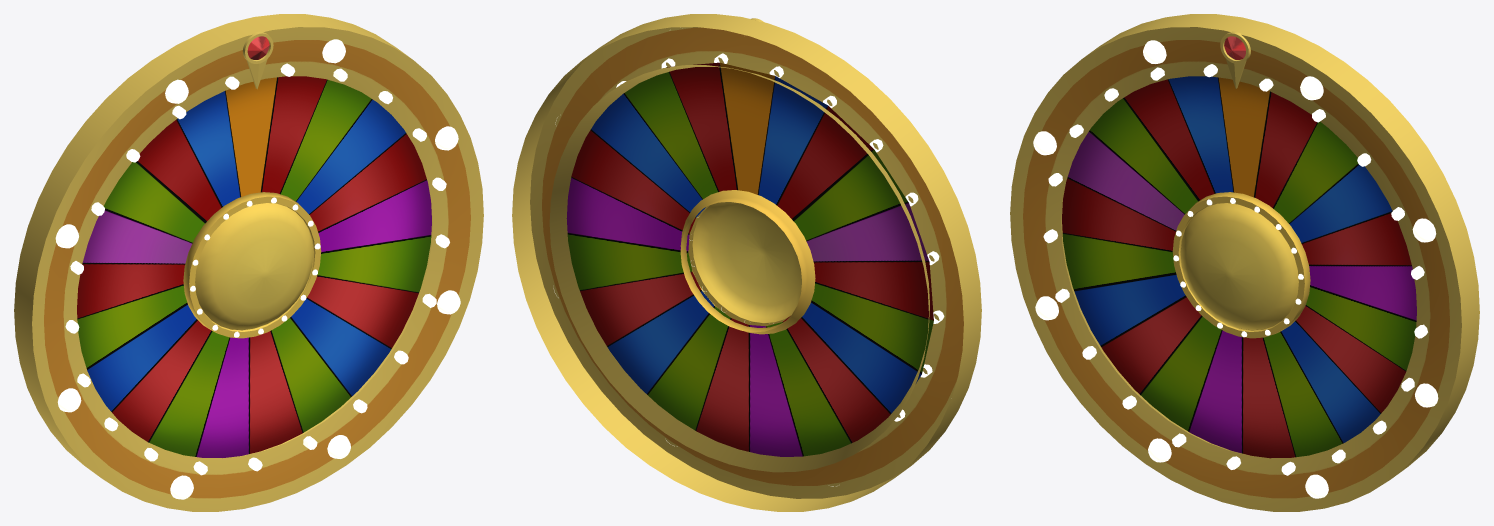
The model's file is FortuneWheel_v3.glb.
3 views of the same model, side by side, from view 1: azimuth 30°, elevation 25°; view 2: azimuth 150°, elevation 25°; view 3: azimuth 330°, elevation 25° (orthographic).
Visible parts, largest first — view 1: Plates.009, Wheel_Wheel_MAT_0, Cylinder, OuterLight, WheelStopper, pointer, InnerLight; view 2: Plates.009, Wheel_Wheel_MAT_0, Cylinder, WheelStopper; view 3: Plates.009, Wheel_Wheel_MAT_0, Cylinder, OuterLight, WheelStopper, pointer, InnerLight.
Boxes of the visible parts, <box> form: Plates.009: <box>77,76,431,457</box>; Wheel_Wheel_MAT_0: <box>14,14,483,511</box>; Cylinder: <box>183,192,321,338</box>; OuterLight: <box>55,39,460,499</box>; WheelStopper: <box>65,63,449,475</box>; pointer: <box>242,31,273,89</box>; InnerLight: <box>190,197,320,337</box>; Plates.009: <box>566,62,933,456</box>; Wheel_Wheel_MAT_0: <box>512,14,981,511</box>; Cylinder: <box>680,190,815,334</box>; WheelStopper: <box>616,53,944,421</box>; Plates.009: <box>1062,76,1416,458</box>; Wheel_Wheel_MAT_0: <box>1010,14,1479,511</box>; Cylinder: <box>1172,192,1310,338</box>; OuterLight: <box>1033,40,1438,498</box>; WheelStopper: <box>1043,64,1427,475</box>; pointer: <box>1220,31,1250,88</box>; InnerLight: <box>1173,198,1303,337</box>.
Size of the model in its own units: 3.71 by 3.72 by 0.3575.
Materials: 1 (1 with a texture image).
